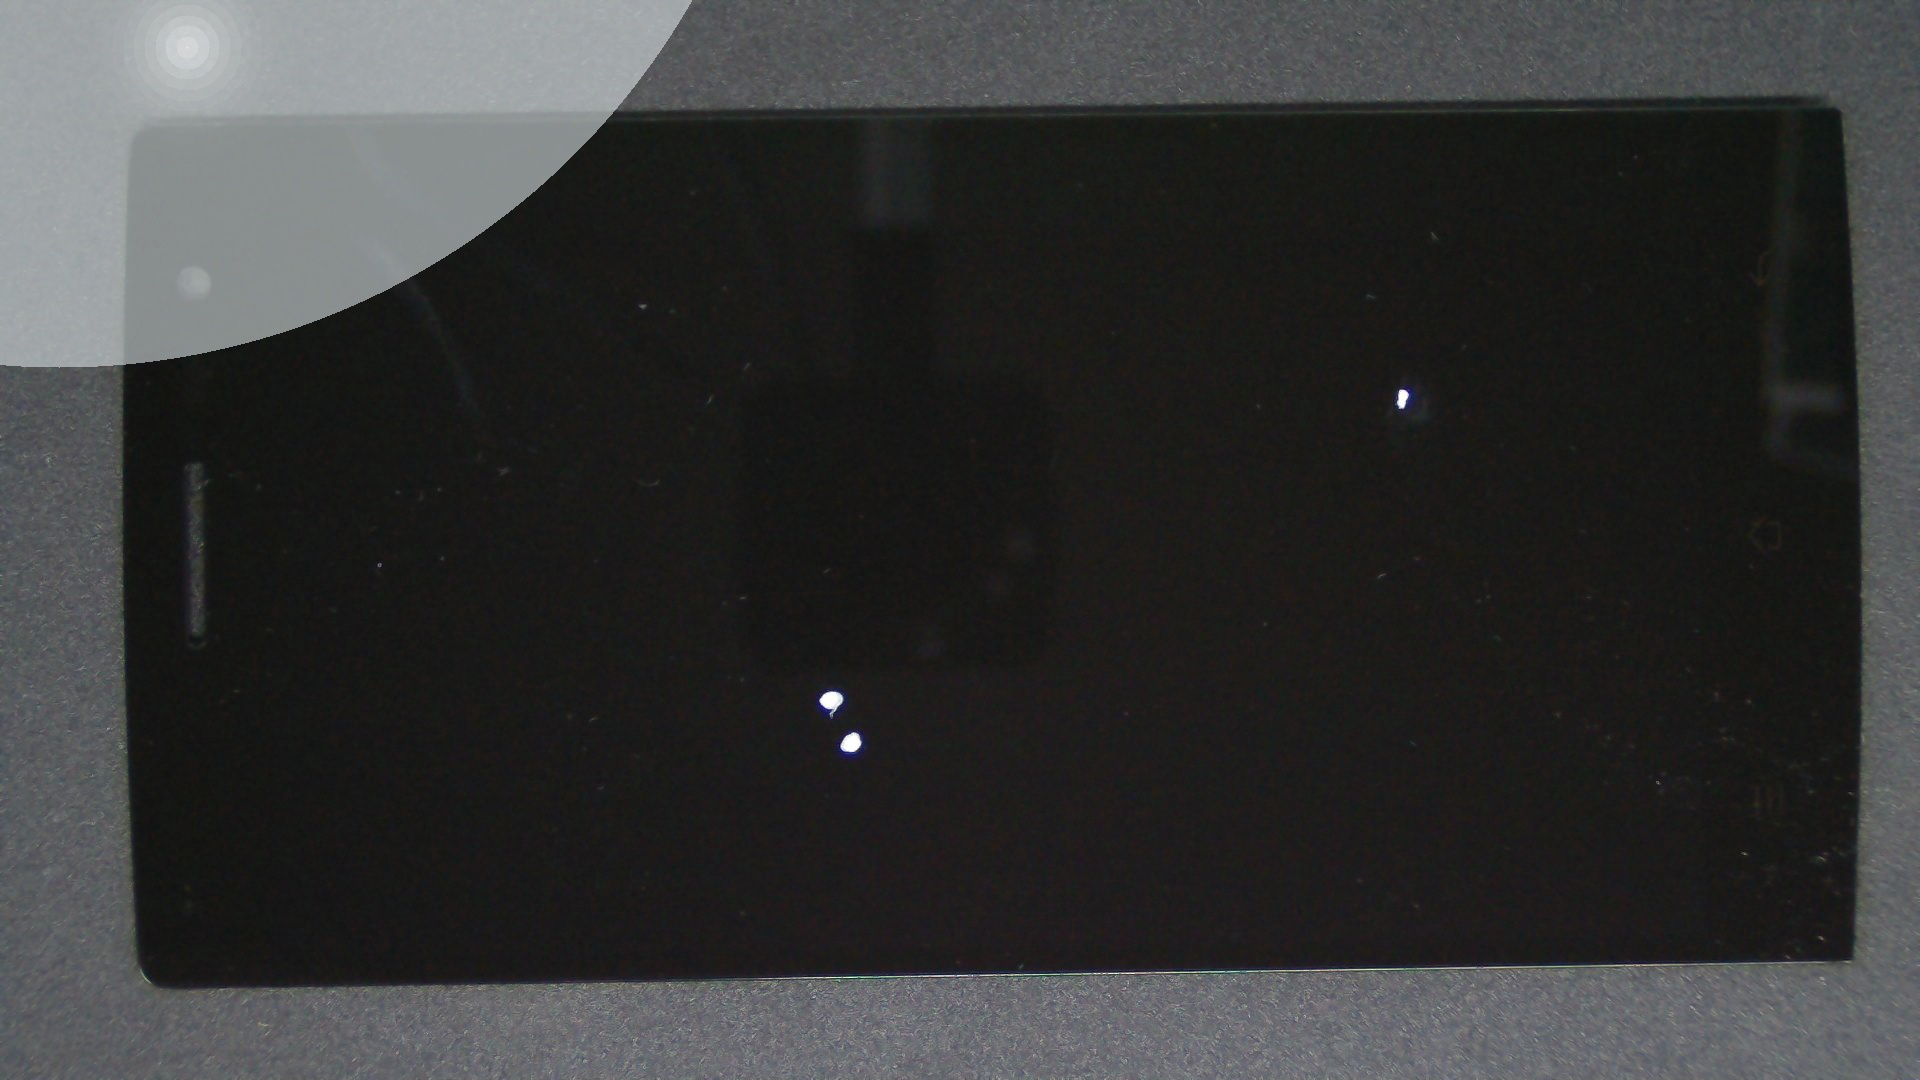oil: (427, 364, 1280, 1080), (415, 344, 1244, 1035), (702, 193, 1920, 582)
